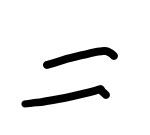eqv: (14, 43, 123, 109)
